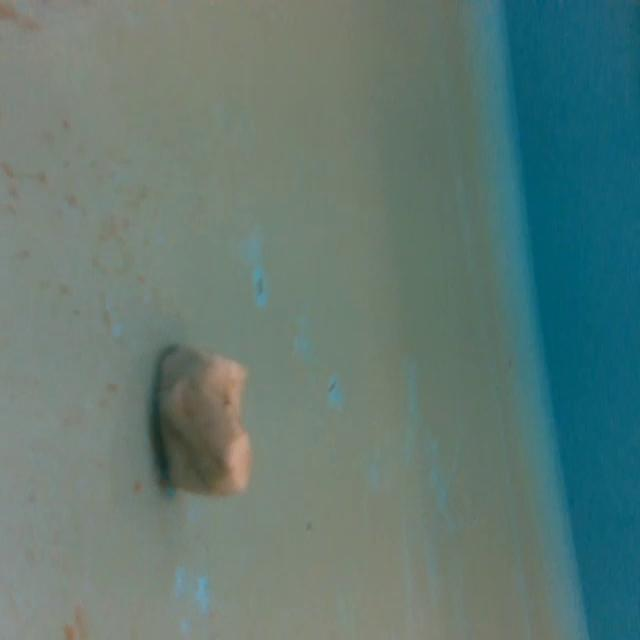rock: (151, 330, 260, 506)
